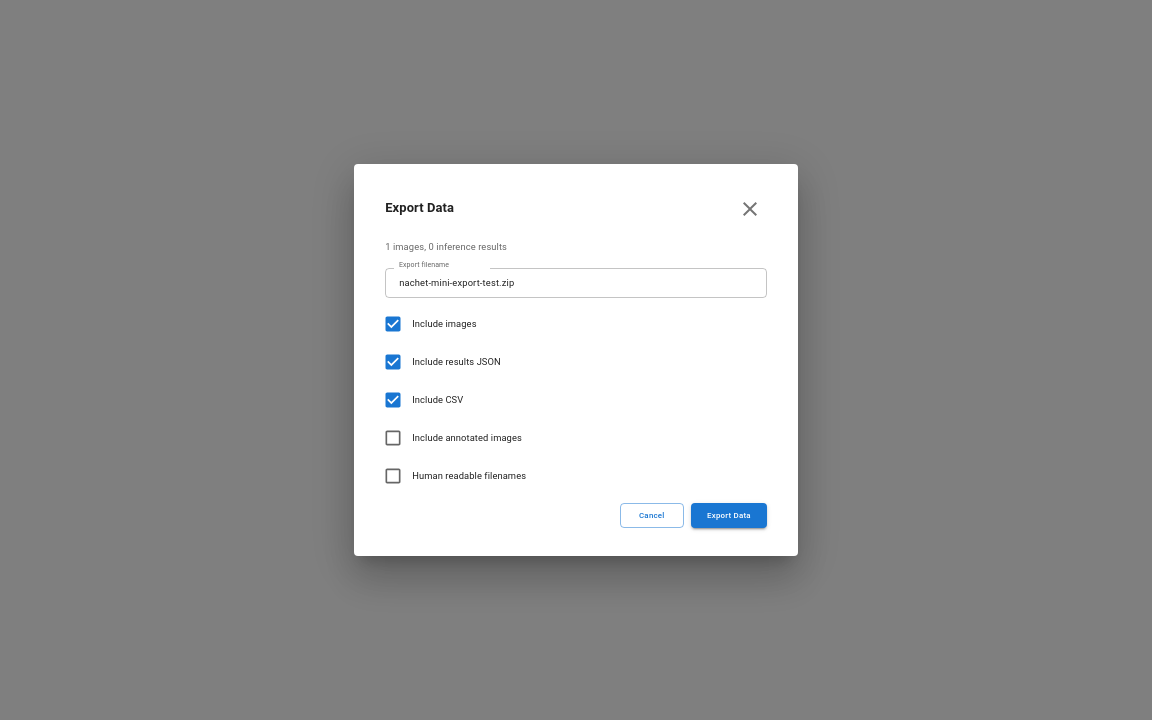
Scenario: ExportDialog › export behavior › disables export when the filename is empty
Clear the field labelled "Export filename" at (576, 283), box [385,268,767,298]
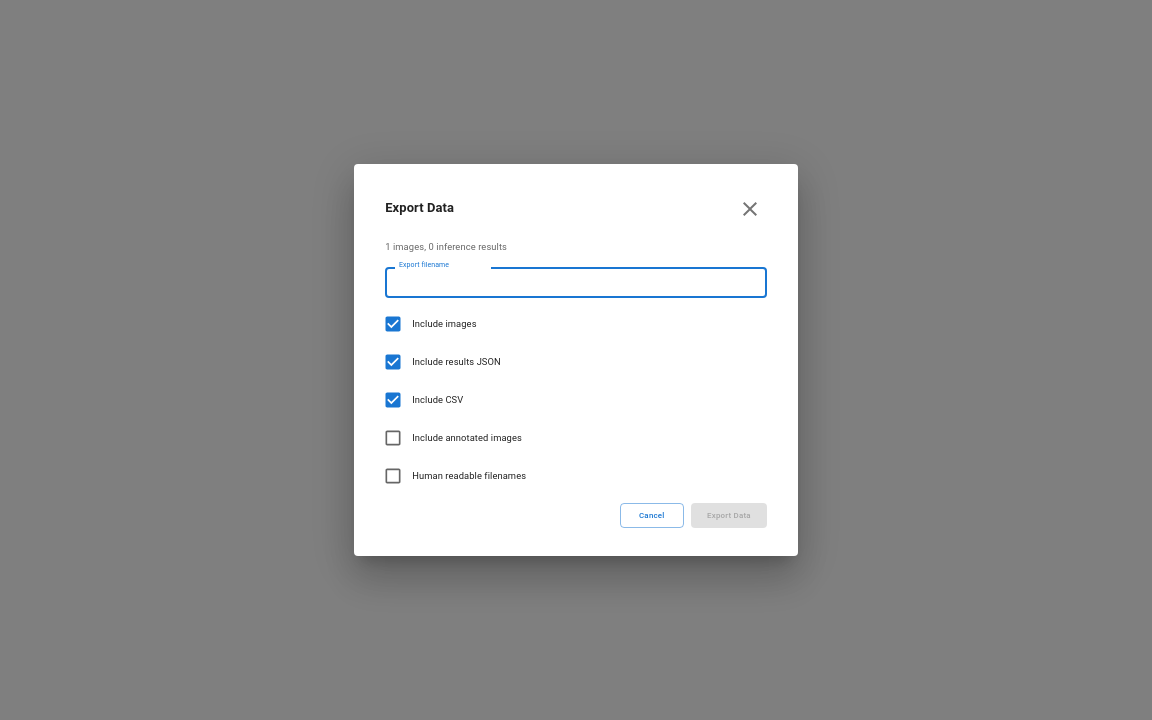
Result: the button "Export Data" is disabled at [691,503,767,528]
